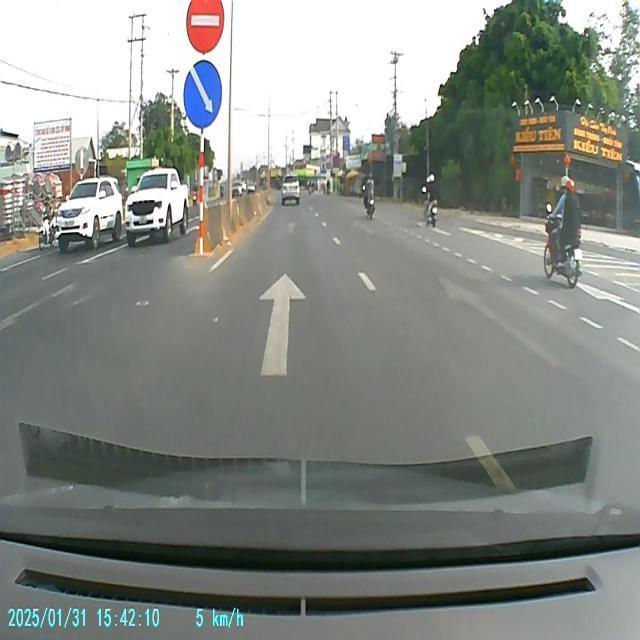102-cam-di-nguoc-chieu: (184, 0, 224, 54)
302a-huong-phai-di-vong-chuong-ngai-vat-1: (182, 59, 222, 131)
